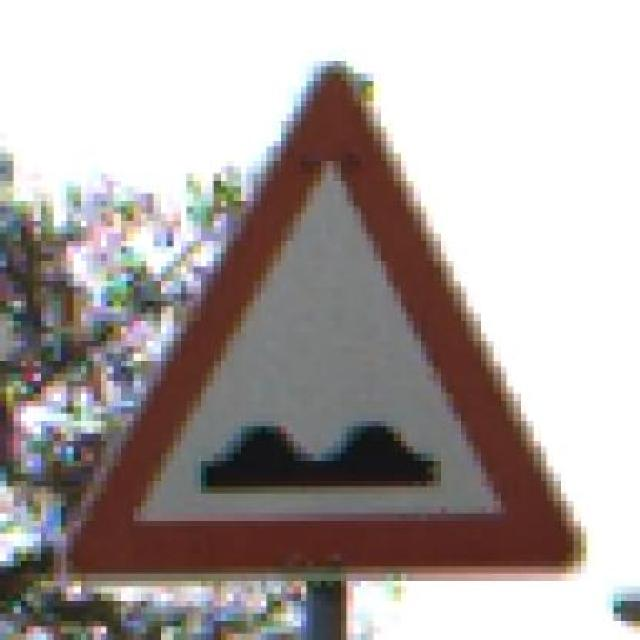Uneven Road: (59, 59, 586, 579)
